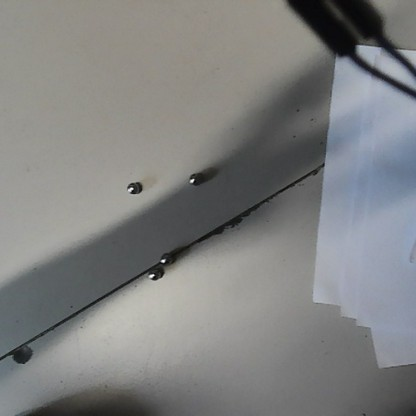ironball: (184, 170, 204, 188), (123, 178, 140, 197), (158, 252, 174, 269), (146, 265, 161, 280)
